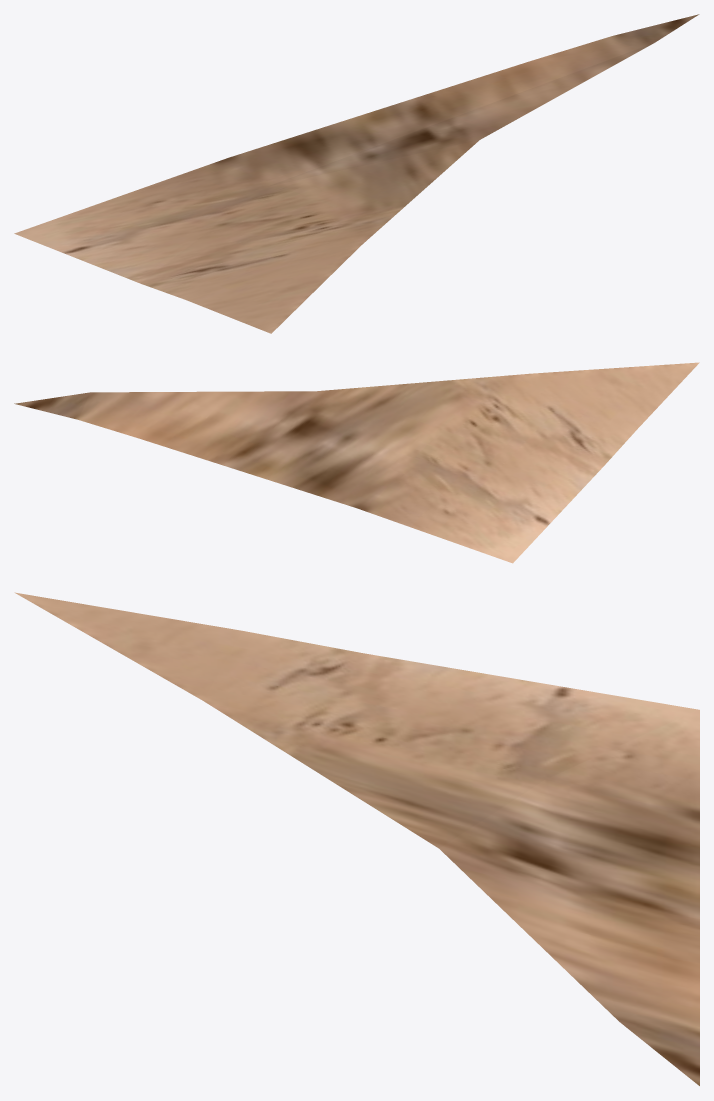
3 views of the same model, one above another, from view 1: azimuth 30°, elevation 25°; view 2: azimuth 150°, elevation 25°; view 3: azimuth 270°, elevation 25° (orthographic). The views are drawn at different scales.
Bounding box in the file's own units: 1.36 × 0.167 × 0.8844.
1 material, 1 textured.
